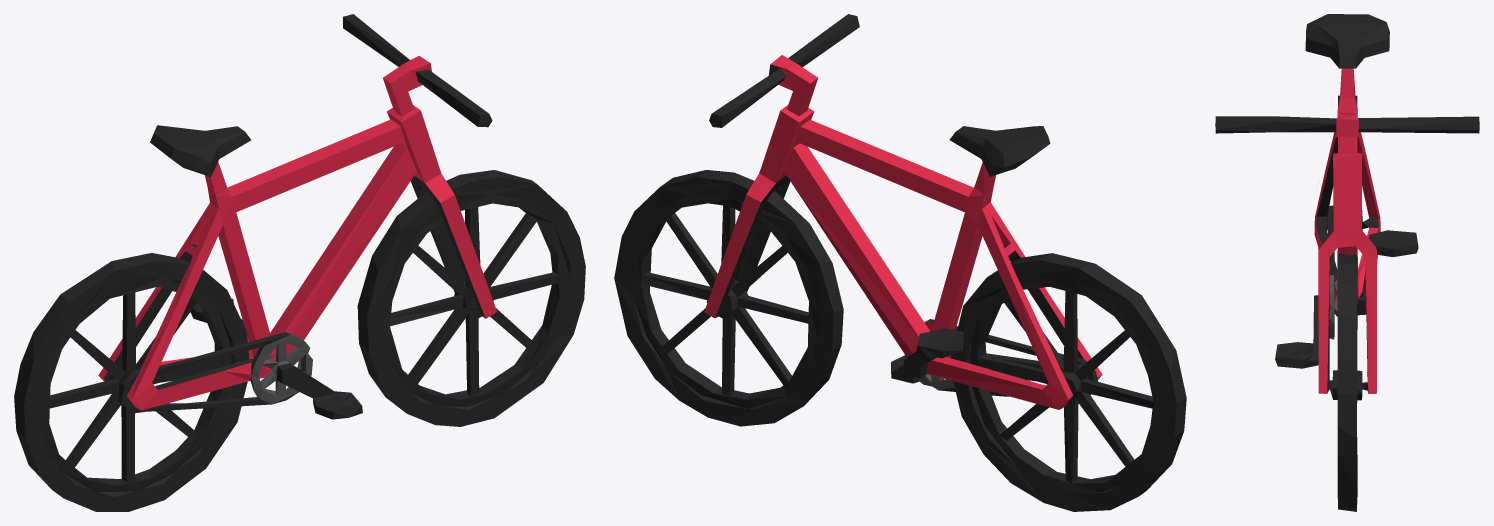
Rendered from Bicicleta.fbx.
3 views of the same model, side by side, from view 1: azimuth 30°, elevation 25°; view 2: azimuth 150°, elevation 25°; view 3: azimuth 270°, elevation 25° (orthographic). The views are drawn at different scales.
Parts seen in each view (by area): view 1: Bicicleta; view 2: Bicicleta; view 3: Bicicleta.
Boxes of the visible parts, x1,y1,x2,y2 form: Bicicleta: (14,14,585,511); Bicicleta: (614,14,1186,511); Bicicleta: (1215,14,1479,511).
Size of the model in its own units: 3375 by 2152 by 1417.
